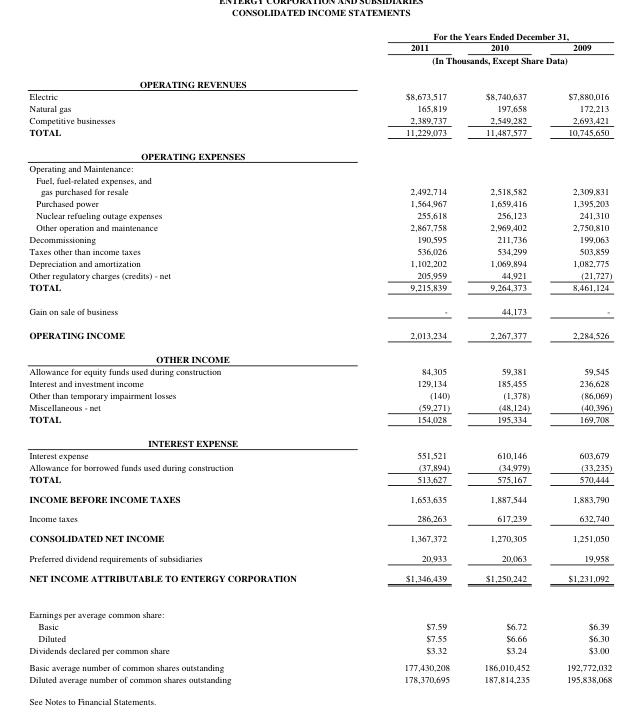table: (28, 29, 611, 684)
table column: (28, 29, 349, 684), (349, 29, 466, 684), (466, 29, 547, 684), (547, 29, 611, 684)
table column header: (28, 29, 611, 71)
table projected row header: (28, 595, 611, 619), (28, 71, 611, 89), (28, 143, 611, 161), (28, 346, 611, 364), (28, 430, 611, 448), (28, 161, 611, 173), (28, 173, 611, 184)
table row: (28, 567, 611, 595), (28, 298, 611, 322), (28, 322, 611, 346), (28, 595, 611, 619), (28, 488, 611, 508), (28, 527, 611, 547), (28, 547, 611, 567), (28, 508, 611, 527), (28, 53, 611, 71), (28, 71, 611, 89), (28, 125, 611, 143), (28, 143, 611, 161), (28, 280, 611, 298), (28, 346, 611, 364), (28, 412, 611, 430), (28, 430, 611, 448), (28, 472, 611, 488), (28, 657, 611, 672), (28, 643, 611, 657), (28, 29, 611, 41), (28, 41, 611, 53), (28, 89, 611, 101), (28, 101, 611, 113), (28, 113, 611, 125), (28, 161, 611, 173), (28, 184, 611, 196), (28, 196, 611, 208), (28, 208, 611, 220), (28, 220, 611, 232), (28, 232, 611, 244), (28, 244, 611, 256), (28, 256, 611, 268), (28, 268, 611, 280), (28, 364, 611, 376), (28, 376, 611, 388), (28, 388, 611, 400), (28, 400, 611, 412), (28, 448, 611, 460), (28, 460, 611, 472), (28, 619, 611, 631), (28, 631, 611, 643), (28, 672, 611, 684), (28, 173, 611, 184)
table spanning cell: (349, 53, 611, 71), (349, 29, 611, 41)
